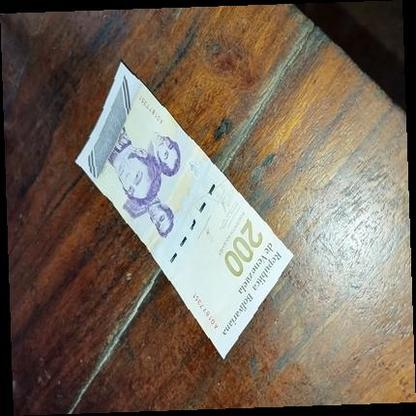two_hundred-front-vef: (74, 60, 294, 361)
